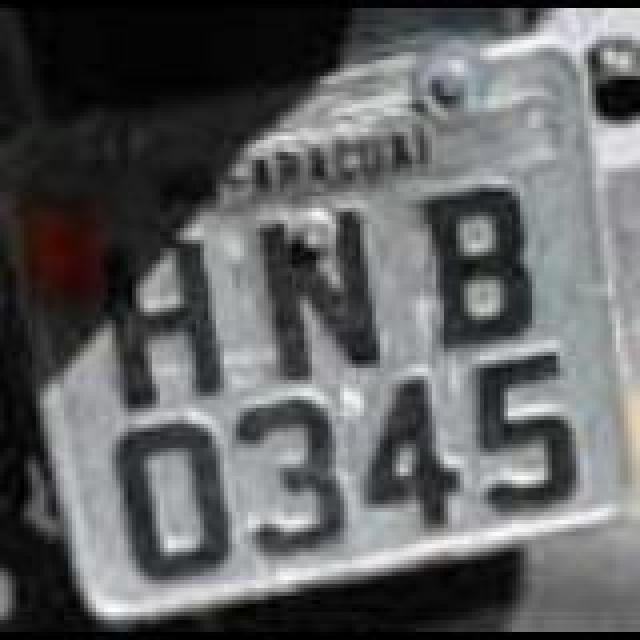3: (226, 398, 350, 562)
4: (364, 378, 468, 534)
5: (472, 350, 584, 514)
B: (418, 180, 542, 356)
H: (94, 230, 226, 410)
N: (264, 210, 384, 382)
O: (112, 420, 232, 588)
